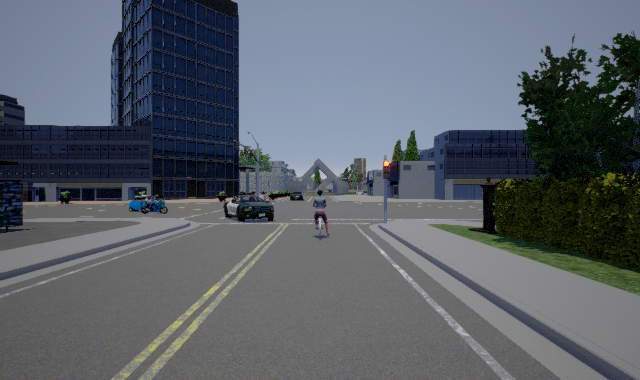bike: (310, 189, 333, 237)
motobike: (140, 196, 165, 213)
traffic_light: (382, 158, 390, 180)
vehicle: (223, 193, 274, 222), (129, 195, 168, 214), (289, 191, 303, 201)
